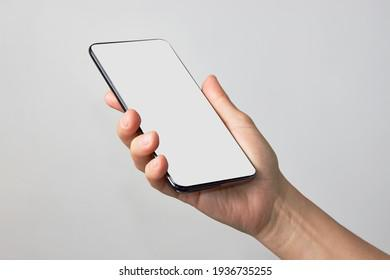mobile: (89, 39, 257, 192)
